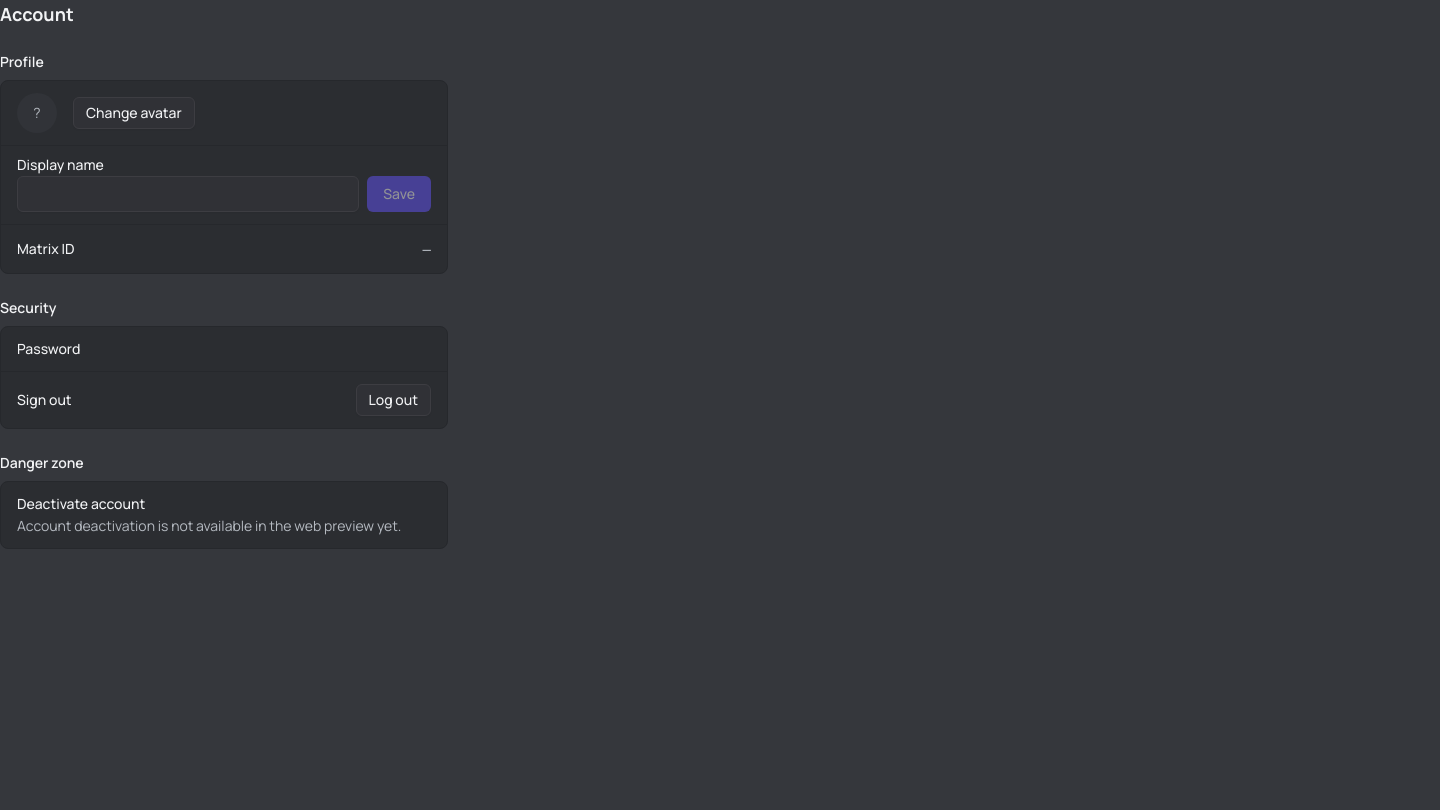
Test case: AccountPanel › shows an error and does not reset the app when logout fails
Click the button "Log out" at (393, 400), box x1=356 y1=384 x2=431 y2=416
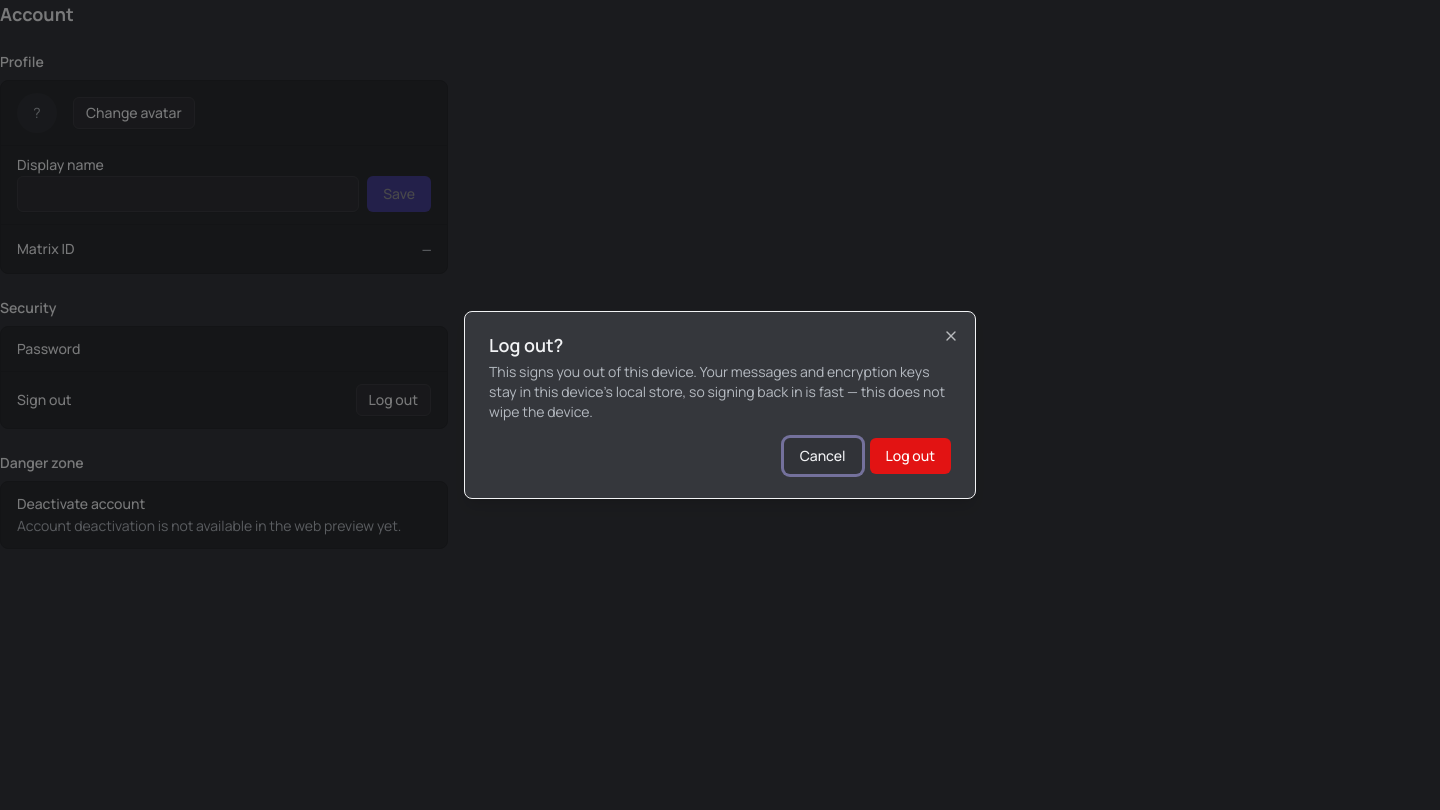
Click the button "Log out" at (910, 456), box x1=870 y1=438 x2=951 y2=474
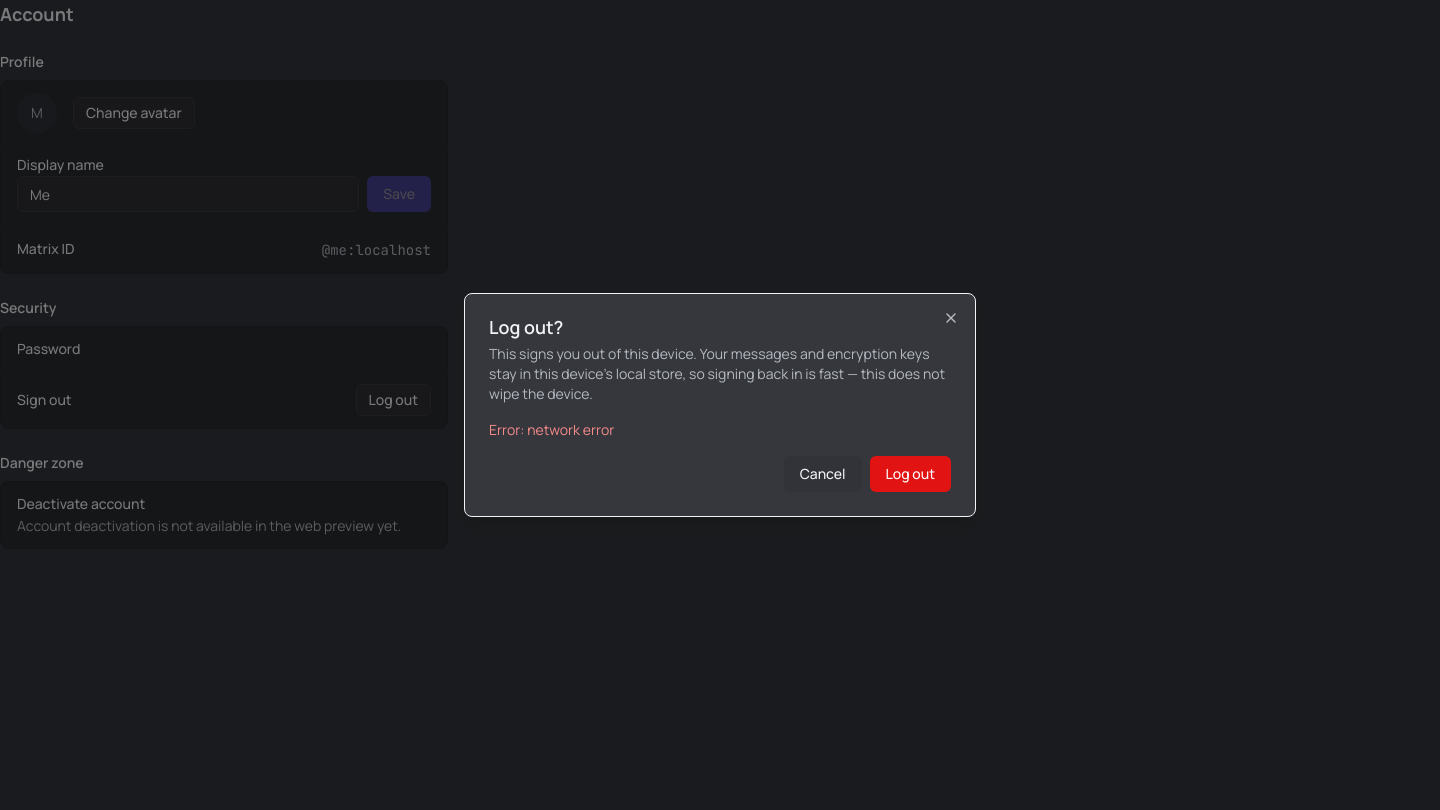
Now the text "Error: network error" is shown, box x1=489 y1=420 x2=614 y2=439
